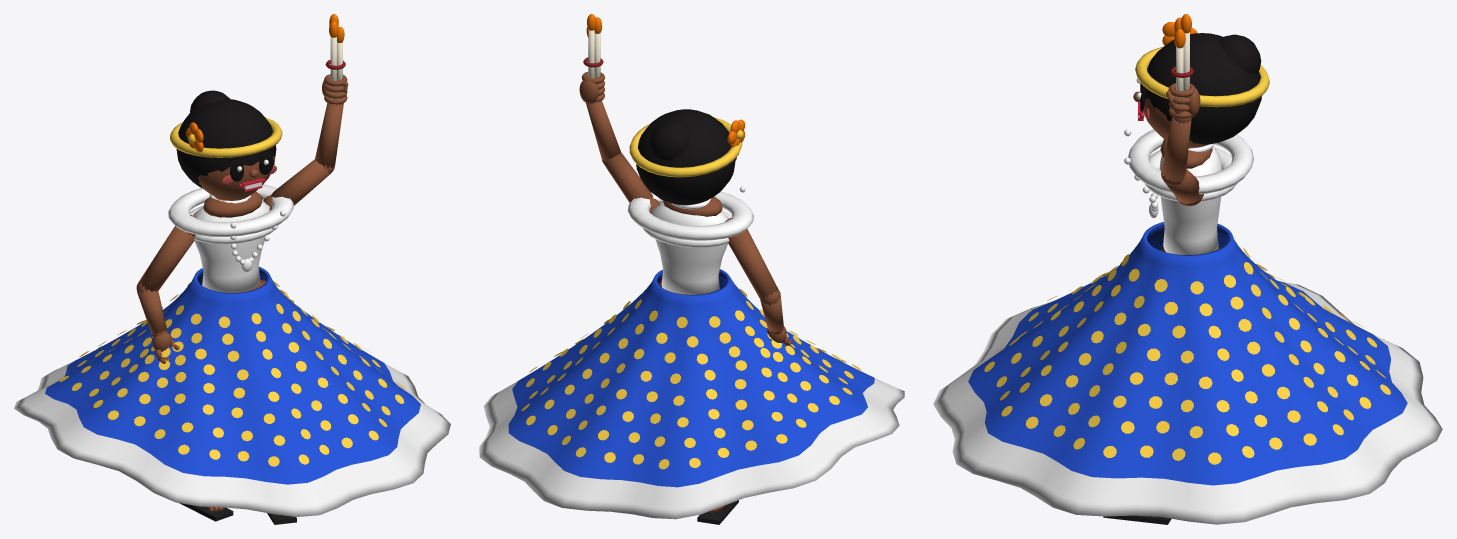
The model's file is bailarina-vestido-azul-puntos-blancos.glb.
The picture shows the model from 3 angles, left to right: view 1: azimuth 30°, elevation 25°; view 2: azimuth 150°, elevation 25°; view 3: azimuth 270°, elevation 25°; orthographic projection. The views are drawn at different scales.
Visible parts, largest first — view 1: Pollera, Lunares, Cabello, Torso_Blusa, Bolero_Alto, Brazo_Izq_Sup, Cinta_Cabeza, Cabeza, Brazo_Der_Inf, Brazo_Der_Sup, Escote, Brazo_Izq_Inf (+1 smaller); view 2: Pollera, Lunares, Cabello, Torso_Blusa, Bolero_Alto, Brazo_Izq_Sup, Cinta_Cabeza, Mono, Brazo_Der_Sup, Brazo_Der_Inf, Bolero_Bajo, Brazo_Izq_Inf (+1 smaller); view 3: Pollera, Lunares, Cabello, Torso_Blusa, Bolero_Alto, Cinta_Cabeza, Brazo_Der_Inf, Mono, Bolero_Bajo, Cabeza, Brazo_Der_Sup.
Boxes of the visible parts, x1,y1,x2,y2 form: Pollera: (14, 266, 450, 516); Lunares: (59, 281, 405, 466); Cabello: (176, 99, 276, 188); Torso_Blusa: (193, 201, 269, 292); Bolero_Alto: (168, 184, 293, 236); Brazo_Izq_Sup: (139, 226, 194, 291); Cinta_Cabeza: (170, 117, 282, 157); Cabeza: (197, 156, 275, 200); Brazo_Der_Inf: (315, 103, 343, 167); Brazo_Der_Sup: (270, 159, 330, 205); Escote: (203, 191, 262, 217); Brazo_Izq_Inf: (137, 289, 166, 334); Pollera: (479, 269, 904, 519); Lunares: (521, 288, 861, 469); Cabello: (636, 109, 735, 205); Torso_Blusa: (652, 203, 728, 294); Bolero_Alto: (627, 191, 753, 240); Brazo_Izq_Sup: (728, 229, 778, 300); Cinta_Cabeza: (629, 117, 742, 177); Mono: (649, 121, 690, 160); Brazo_Der_Sup: (603, 152, 653, 202); Brazo_Der_Inf: (586, 100, 621, 161); Bolero_Bajo: (643, 210, 731, 247); Brazo_Izq_Inf: (760, 296, 783, 332); Pollera: (933, 222, 1442, 524); Lunares: (984, 247, 1390, 464); Cabello: (1142, 33, 1261, 144); Torso_Blusa: (1159, 147, 1221, 254); Bolero_Alto: (1128, 129, 1254, 194); Cinta_Cabeza: (1135, 46, 1269, 107); Brazo_Der_Inf: (1161, 117, 1191, 181); Mono: (1219, 34, 1261, 74); Bolero_Bajo: (1144, 147, 1237, 201); Cabeza: (1141, 89, 1208, 147); Brazo_Der_Sup: (1165, 169, 1200, 203).
Bounding box in the file's own units: 1.75 × 2.07 × 1.75.
